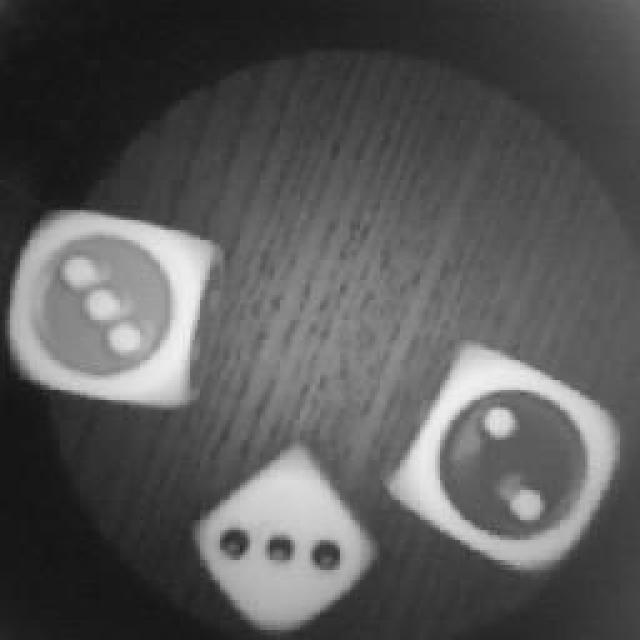dice_2: (385, 338, 640, 580)
dice_3: (12, 208, 212, 410), (190, 450, 378, 640)
